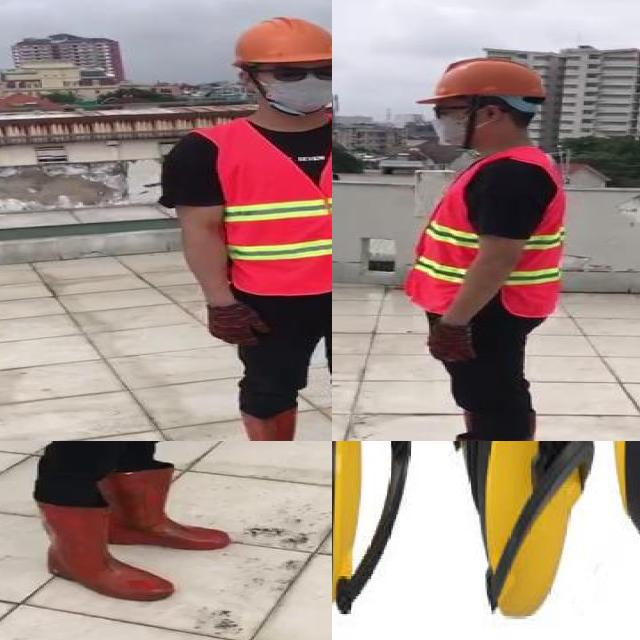Ear-protection: (443, 441, 583, 623), (332, 441, 435, 588)
boots: (37, 499, 174, 601), (103, 469, 229, 552), (237, 407, 308, 441)
face_mask: (258, 57, 332, 115), (424, 97, 484, 148)
glasses: (257, 60, 332, 86)
hand_glove: (207, 303, 268, 346), (422, 324, 473, 366)
head_helmet: (408, 55, 550, 106), (222, 11, 332, 69)
person: (373, 51, 583, 441), (151, 6, 332, 441), (0, 441, 254, 611)
vest: (404, 144, 562, 316), (214, 119, 332, 294)
